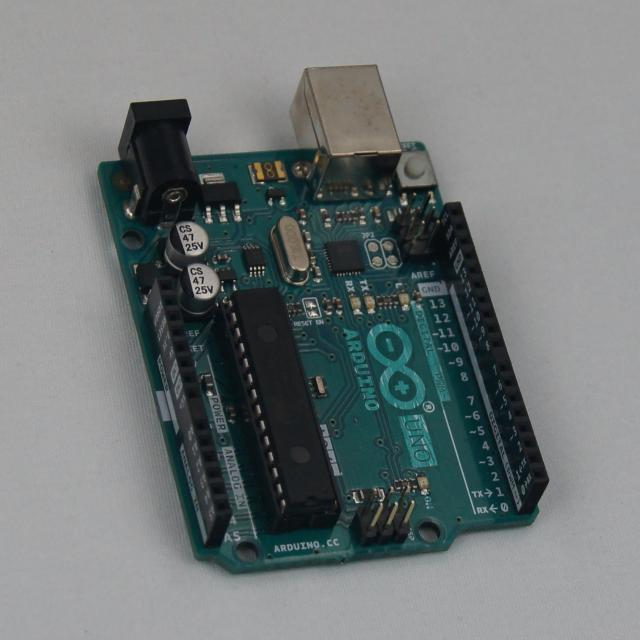Arduino Uno -Green-: (99, 66, 549, 573)
